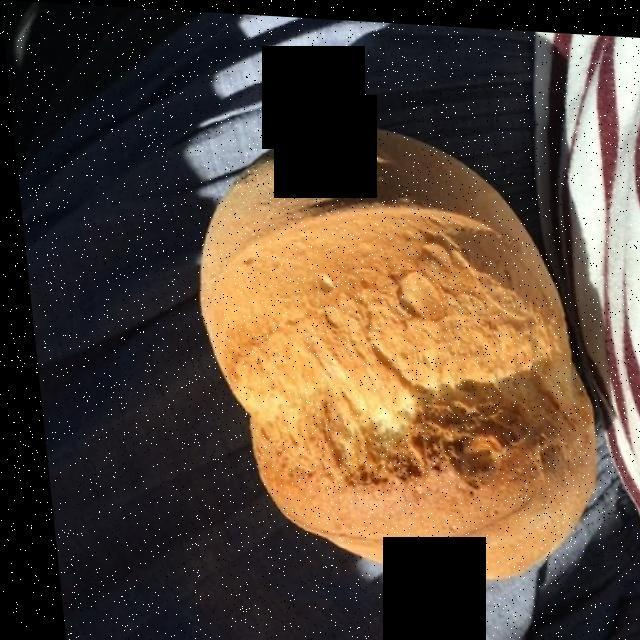bread: (200, 162, 584, 574)
